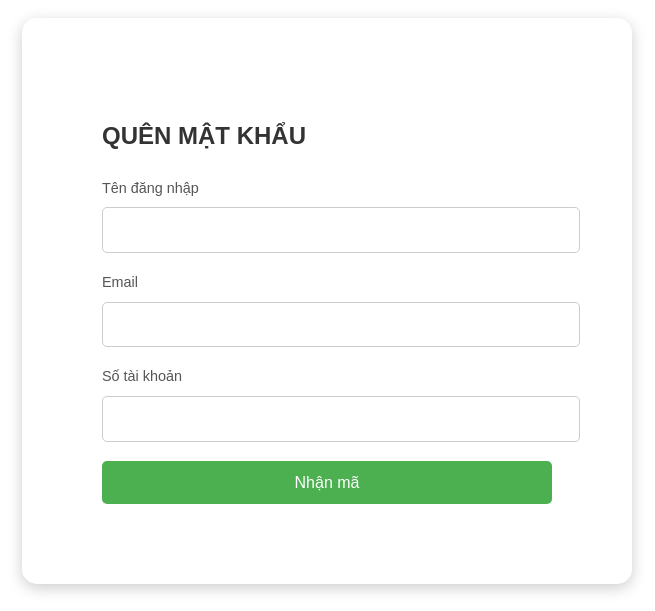
it: proceeds to step 2 with correct username, email, and account number
Type "testuser" into the field labelled "Tên đăng nhập".
click(341, 230); type("testuser")  # box left=102, top=207, right=580, bottom=253
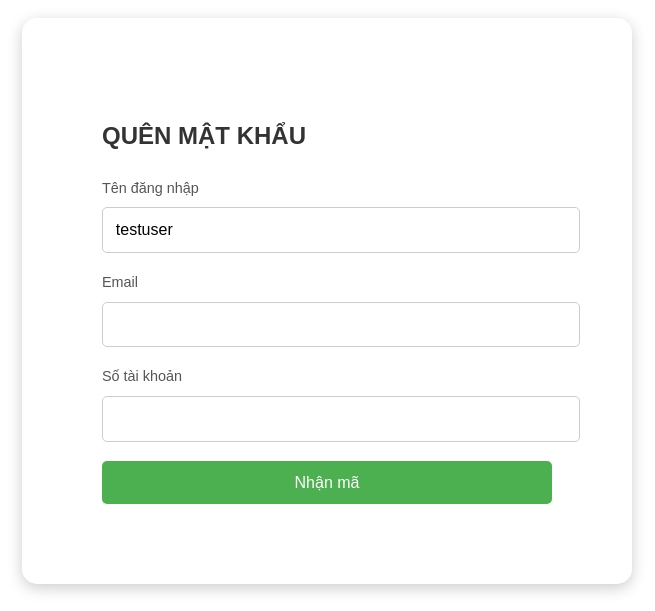
Type "test@example.com" into the field labelled "Email".
click(341, 324); type("test@example.com")  # box left=102, top=302, right=580, bottom=347
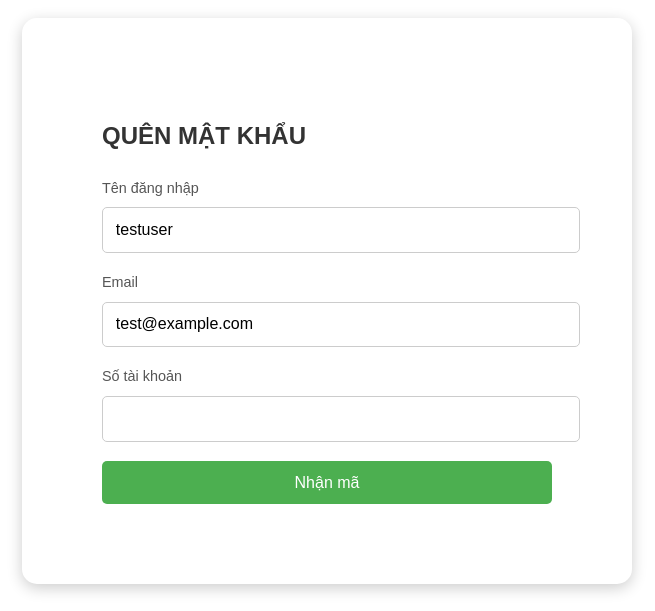
Type "123456" into the field labelled "Số tài khoản".
click(341, 419); type("123456")  # box left=102, top=396, right=580, bottom=442
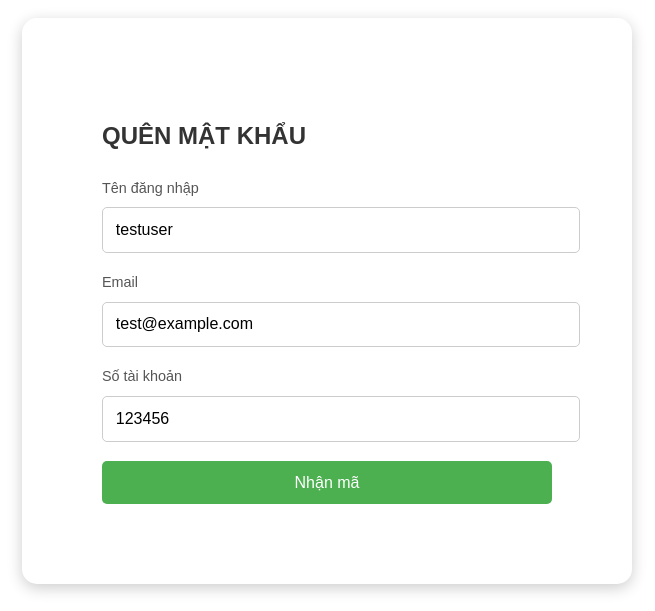
Click the button "Nhận mã".
click(327, 482)  # box left=102, top=461, right=552, bottom=504
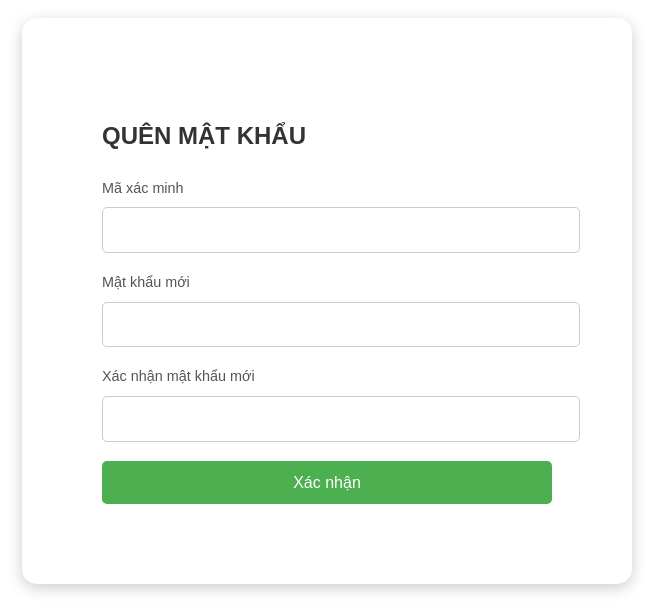
Check: the field labelled "Mã xác minh" is shown, box left=102, top=207, right=580, bottom=253
